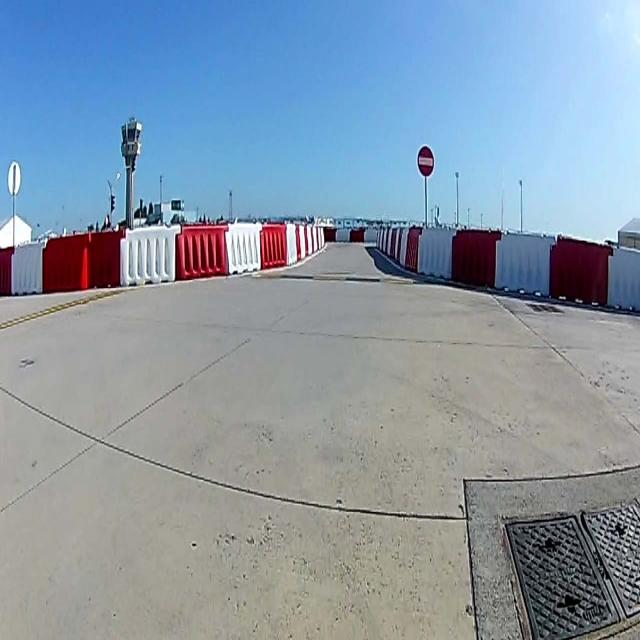girisyok: (415, 146, 436, 177)
